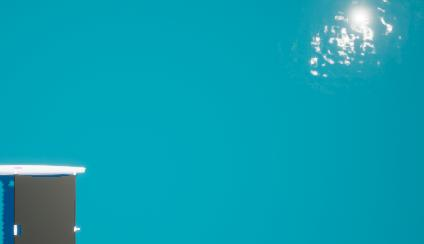boat: (0, 161, 90, 244)
drone: (16, 175, 75, 244)
land_base: (286, 1, 424, 87)
